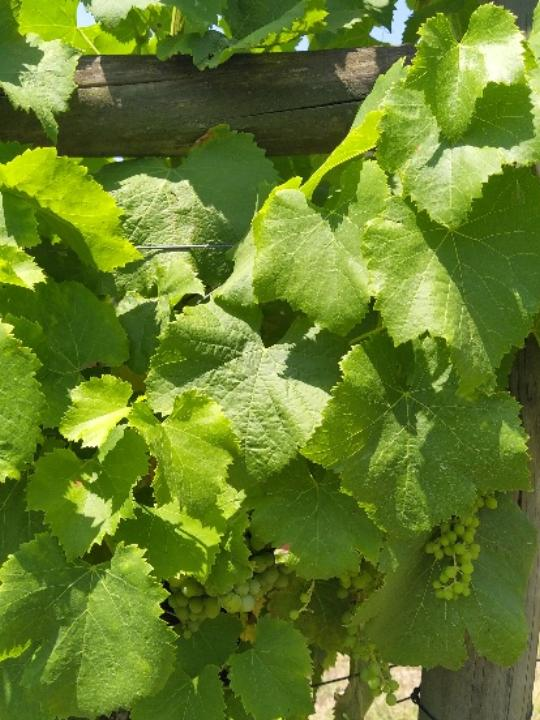grape: (425, 492, 506, 608)
